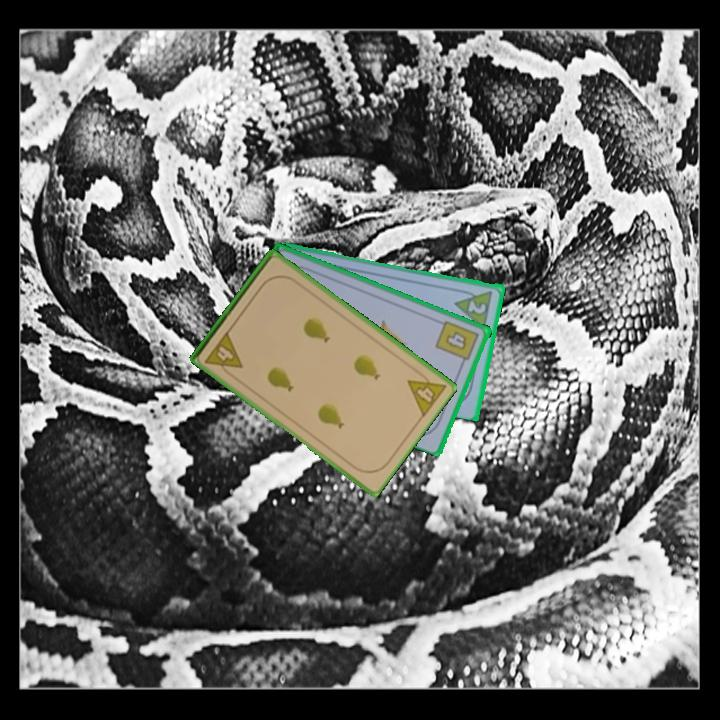2p: (452, 285, 496, 330)
4b: (432, 317, 482, 369)
4p: (404, 364, 449, 420), (201, 328, 245, 380)
